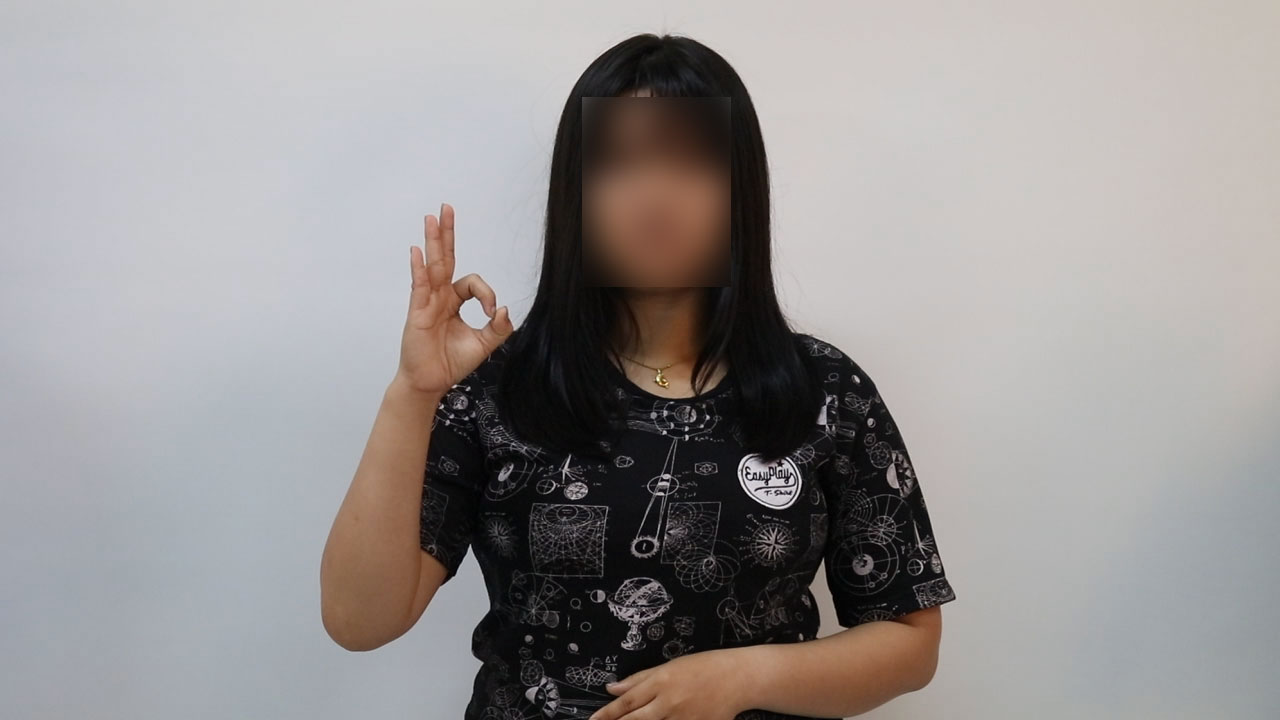for: (373, 191, 520, 412)
